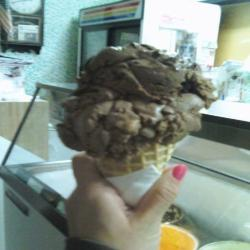icecream: (59, 39, 217, 165)
